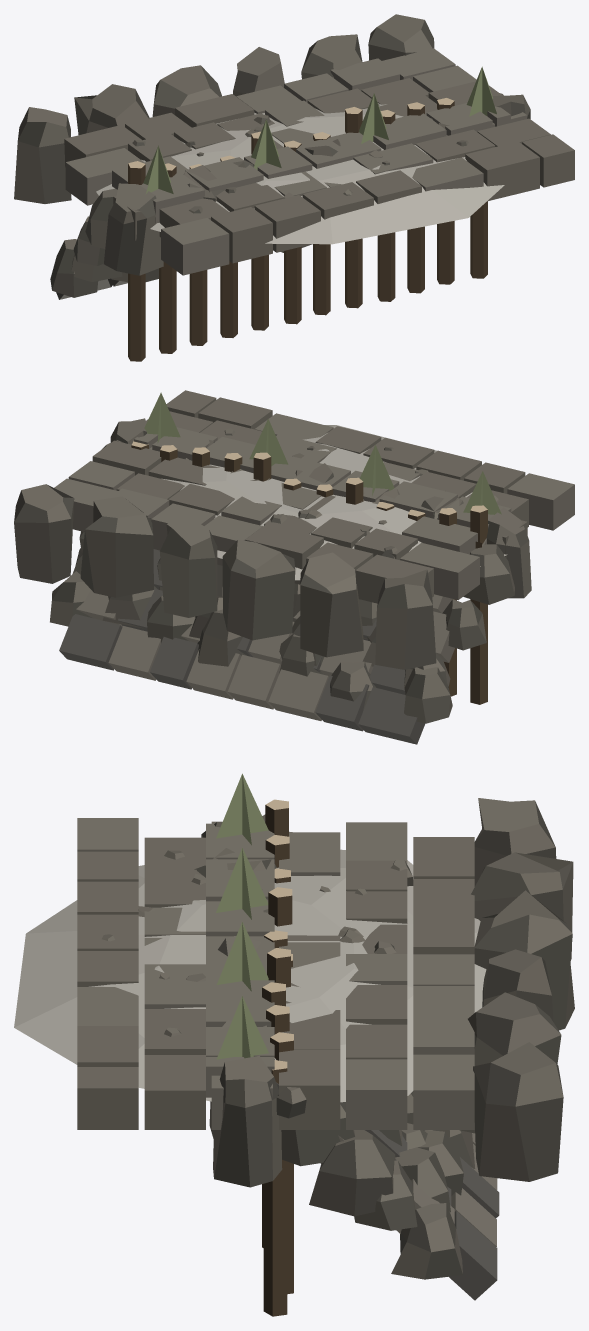
File: wasser_steine.glb
The picture shows the model from 3 angles, top to bottom: view 1: azimuth 30°, elevation 25°; view 2: azimuth 150°, elevation 25°; view 3: azimuth 270°, elevation 25°; orthographic projection. The views are drawn at different scales.
Parts seen in each view (by area): view 1: Furt3, Ufersteine3, Furt2, Ufersteine2, Ufersteine1, Furt1; view 2: Furt3, Ufersteine2, Ufersteine1, Ufersteine3, Furt2, Furt1; view 3: Furt3, Furt2, Ufersteine1, Ufersteine2, Ufersteine3, Furt1.
Part boxes in pixels (x1=…): Furt3: x1=14, y1=14, x2=574, y2=275; Ufersteine3: x1=71, y1=98, x2=487, y2=361; Furt2: x1=96, y1=103, x2=504, y2=244; Ufersteine2: x1=56, y1=103, x2=510, y2=299; Ufersteine1: x1=50, y1=66, x2=496, y2=297; Furt1: x1=104, y1=93, x2=530, y2=275; Furt3: x1=14, y1=390, x2=574, y2=669; Ufersteine2: x1=59, y1=427, x2=511, y2=744; Ufersteine1: x1=50, y1=392, x2=514, y2=723; Ufersteine3: x1=72, y1=441, x2=487, y2=704; Furt2: x1=161, y1=425, x2=507, y2=580; Furt1: x1=102, y1=418, x2=531, y2=598; Furt3: x1=77, y1=798, x2=574, y2=1181; Furt2: x1=14, y1=849, x2=486, y2=1102; Ufersteine1: x1=216, y1=773, x2=475, y2=1279; Ufersteine2: x1=206, y1=823, x2=499, y2=1300; Ufersteine3: x1=262, y1=799, x2=450, y2=1316; Furt1: x1=138, y1=814, x2=306, y2=1187.
Size of the model in its own units: 4.71 by 2.34 by 3.84.
